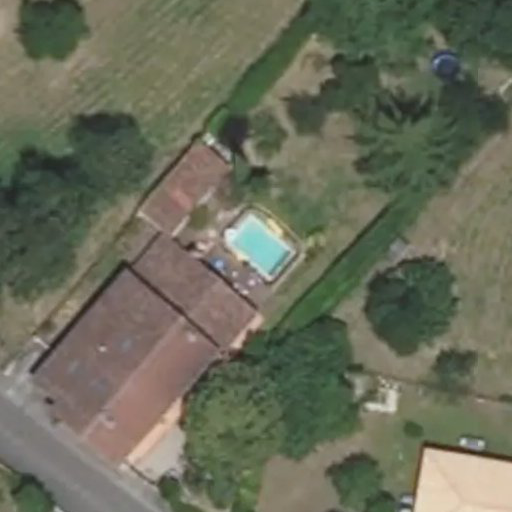pool: (227, 215, 295, 284)
